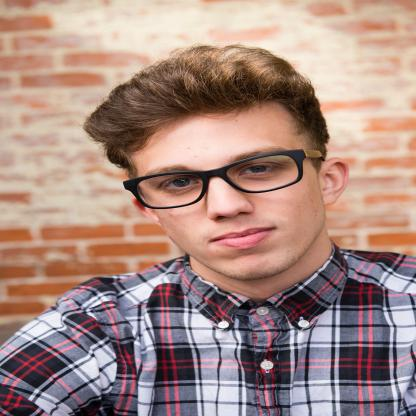Eye: (154, 174, 201, 196), (237, 163, 284, 177)
Mouth: (206, 224, 280, 250)
Nose: (204, 178, 254, 222)
